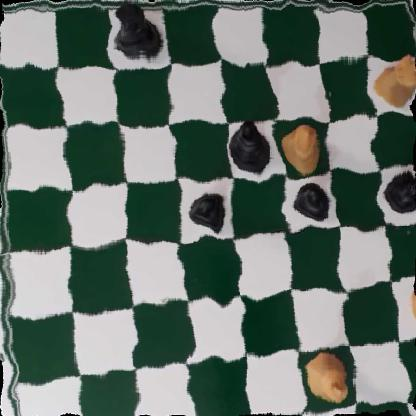black-king: (227, 118, 278, 169)
black-pawn: (186, 185, 231, 240), (296, 179, 335, 224), (383, 167, 416, 212)
black-rook: (113, 1, 167, 65)
white-bishop: (282, 126, 328, 171)
white-king: (304, 346, 350, 405)
white-pawn: (402, 284, 416, 332)
white-rook: (375, 54, 416, 108)
